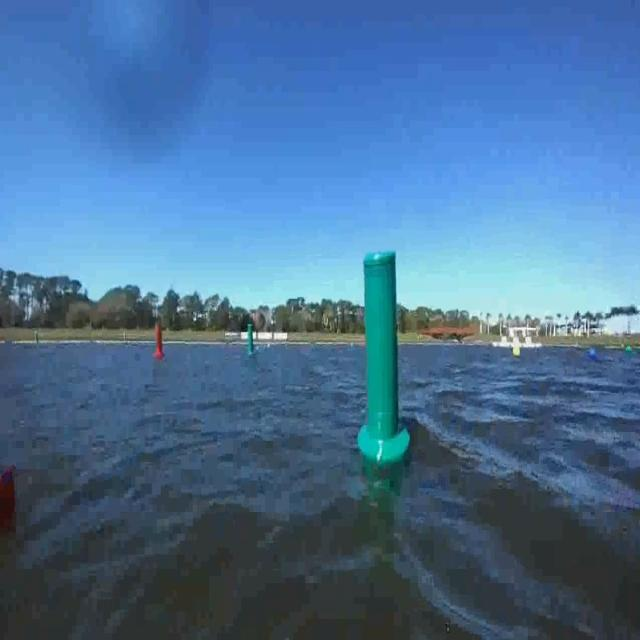blue-buoy: (588, 347, 598, 361)
green-column-buoy: (357, 246, 409, 462), (243, 324, 255, 359)
red-column-buoy: (153, 324, 165, 358)
yellow-buoy: (513, 344, 522, 359)
